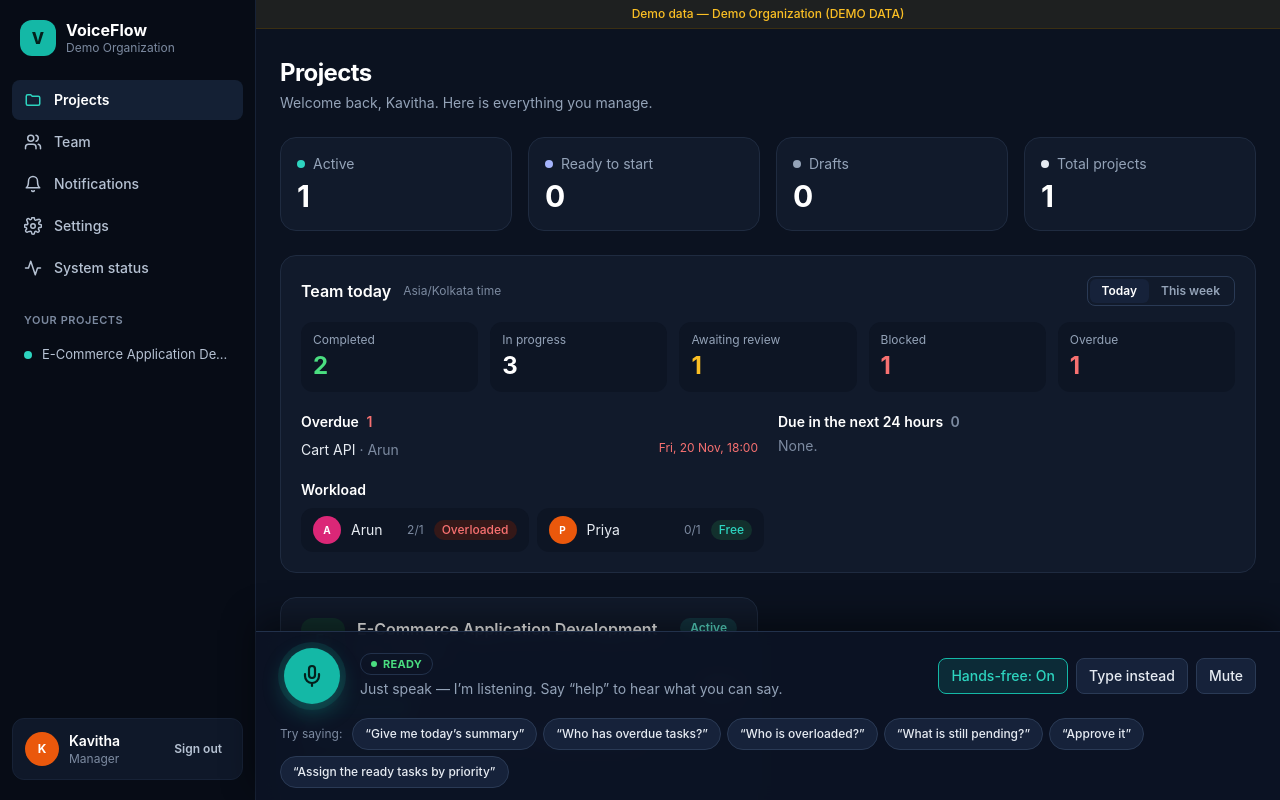
voice panel › a typed command navigates, shows captions and speaks the reply
Expected: the heading "Projects" is shown, top-left (280, 58), bottom-right (372, 87)
Click the button "Type instead" at coordinates (1132, 676), box top-left (1076, 658), bottom-right (1188, 694)
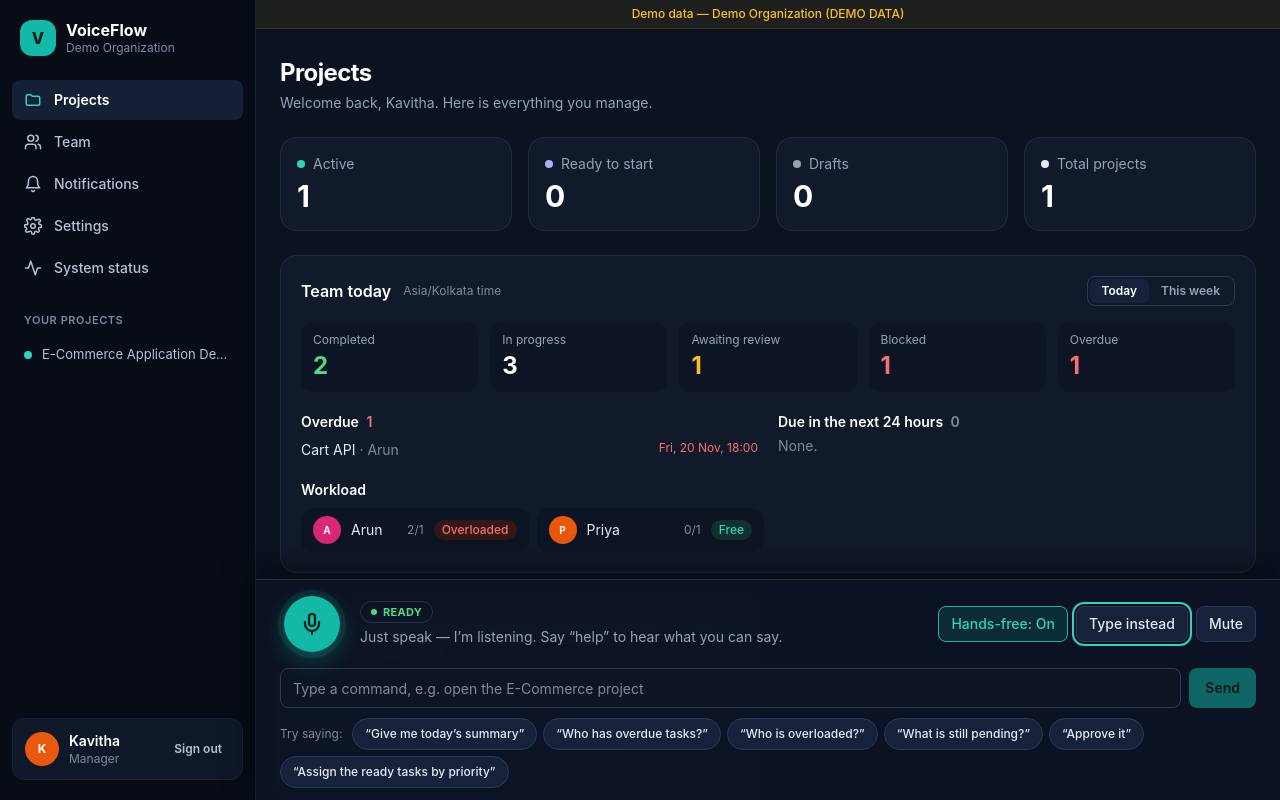
Type "open the e-commerce project" into the field labelled "Type a command" at coordinates (731, 688), box top-left (280, 668), bottom-right (1181, 708)
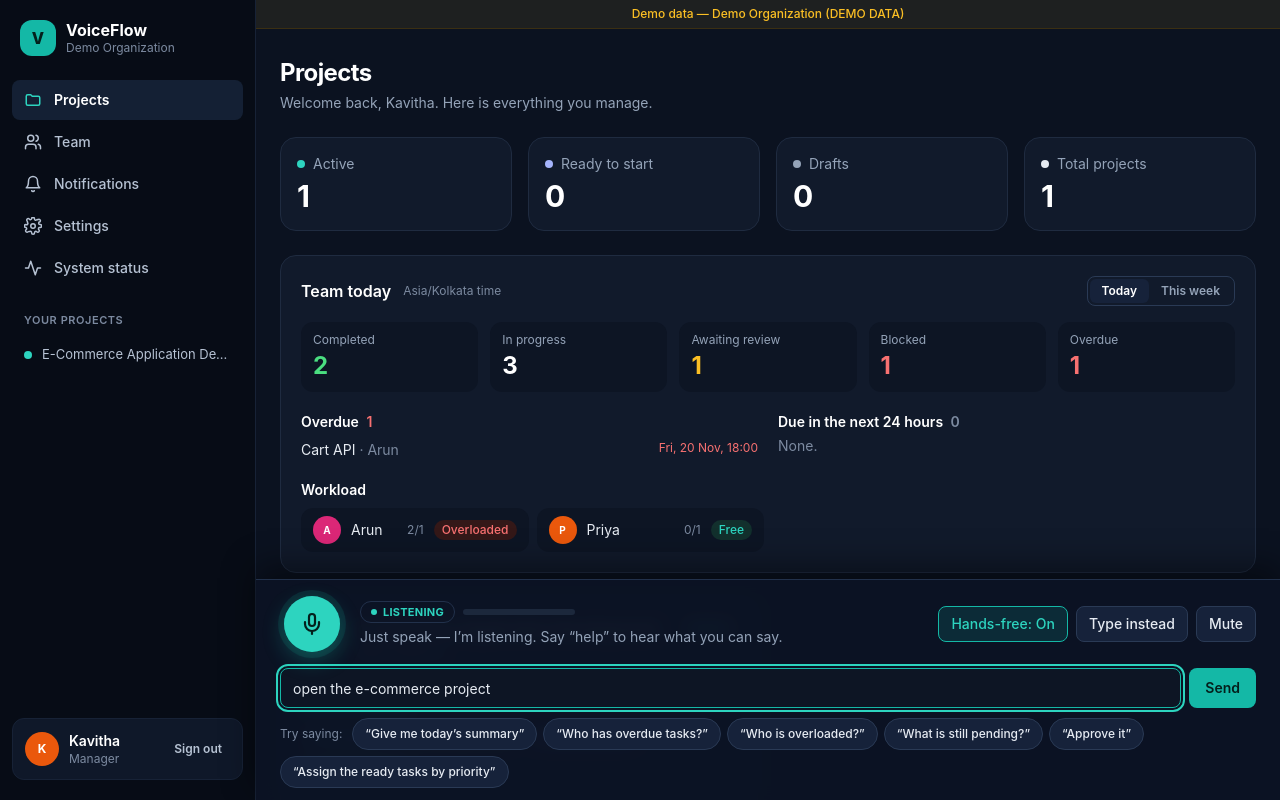
Click the button "Send" at coordinates (1223, 688), box top-left (1189, 668), bottom-right (1256, 708)
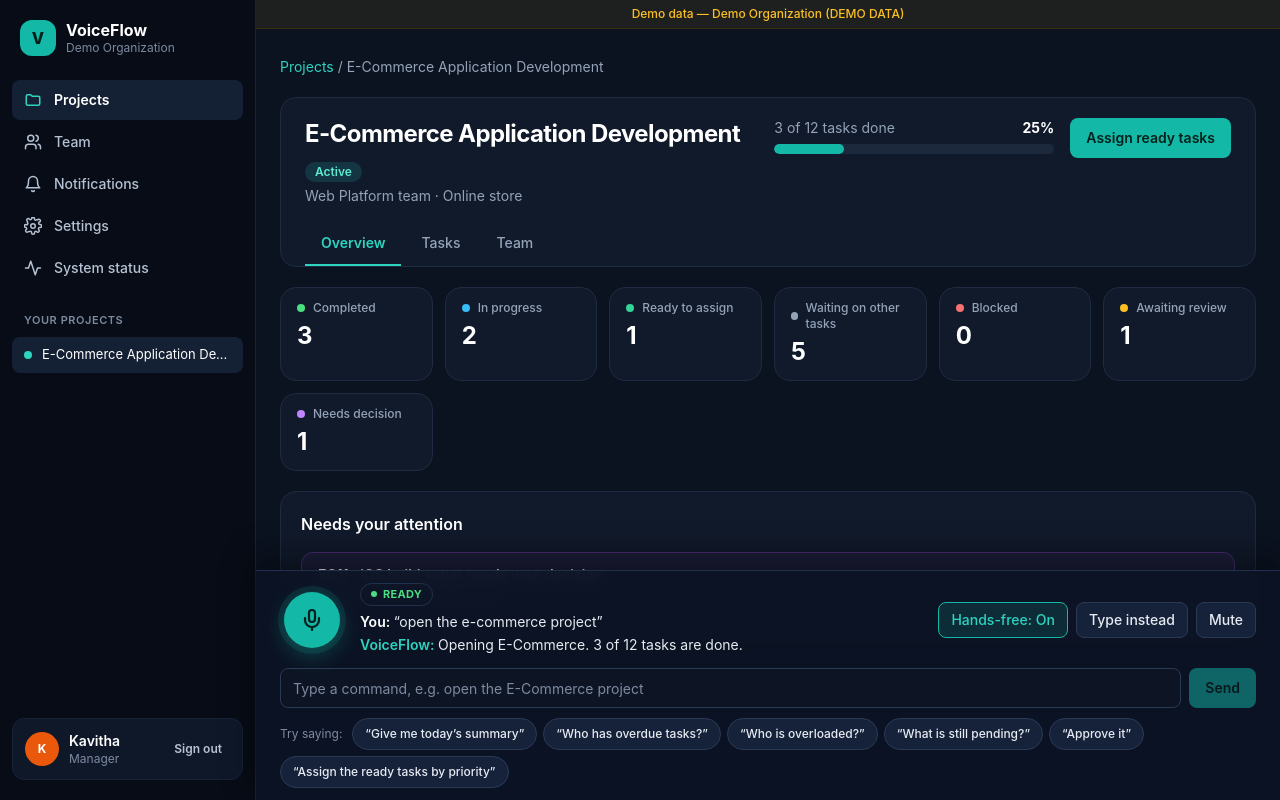
Now the text "Opening E-Commerce. 3 of 12 tasks are done." is shown, box top-left (438, 635), bottom-right (743, 652)
Now the message reads "Ready", box top-left (383, 587), bottom-right (422, 601)
